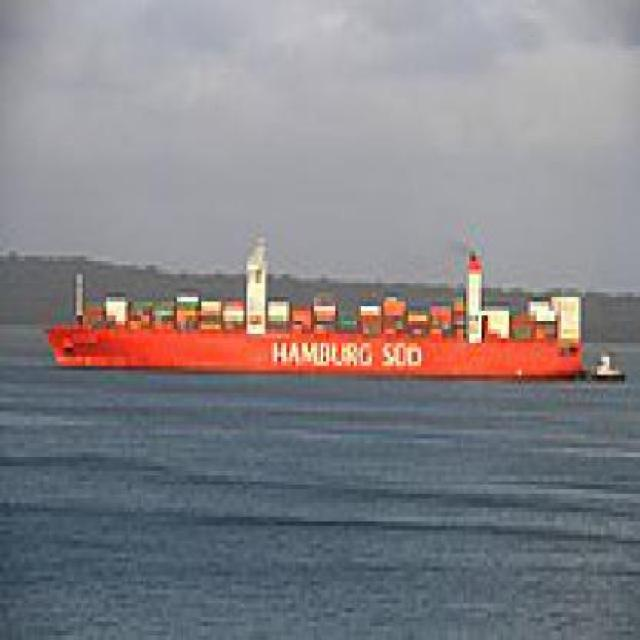container: (22, 202, 596, 389)
